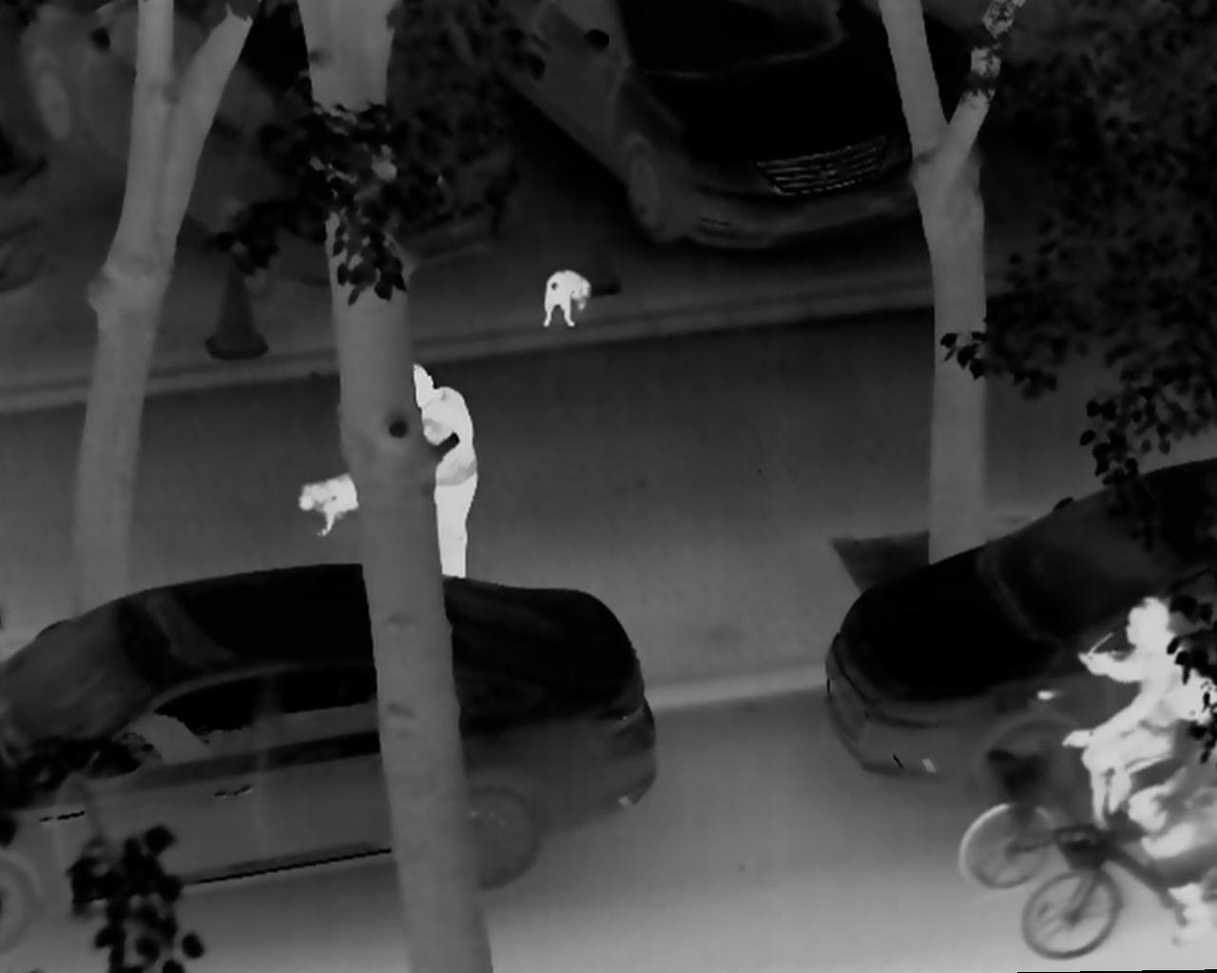person: (1117, 633, 1217, 957), (1072, 597, 1207, 833), (404, 357, 479, 579)
